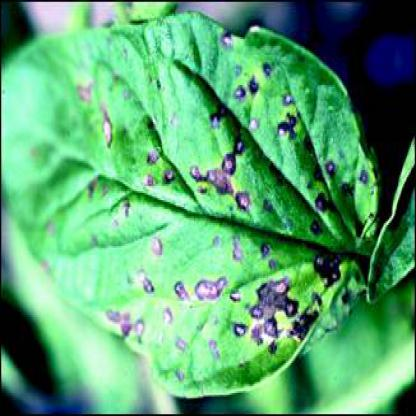tomato leaf bacterial spot: (8, 23, 397, 400)
